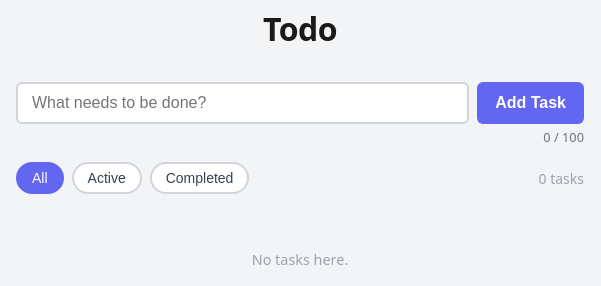
it: Todo App › shows an edit input when a task is double-clicked
Type "Edit this task" into the field named "New task". click: (243, 103)
box: [16,82,469,124]
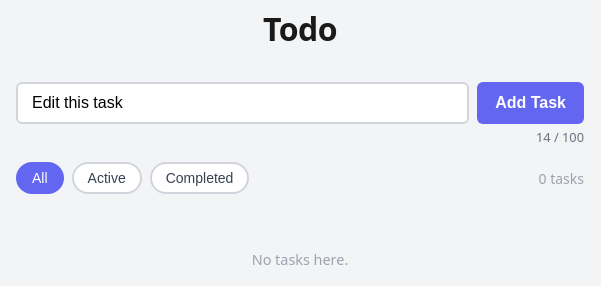
Click the button "Add Task". click: (531, 103)
box: [477,82,584,124]
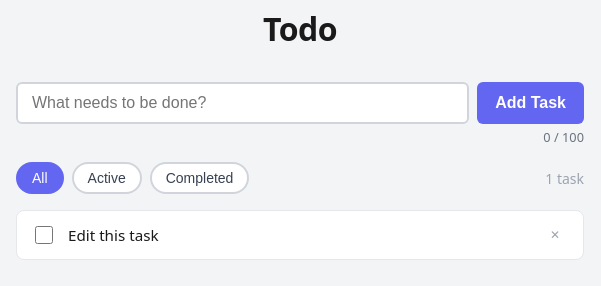
Double-click the text "Edit this task" at (113, 235), box [68,225,158,245]
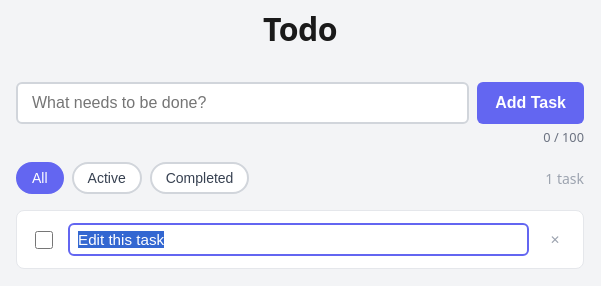
Result: the field named "Edit \"Edit this task\"" holds "Edit this task" at [68,223,529,256]
